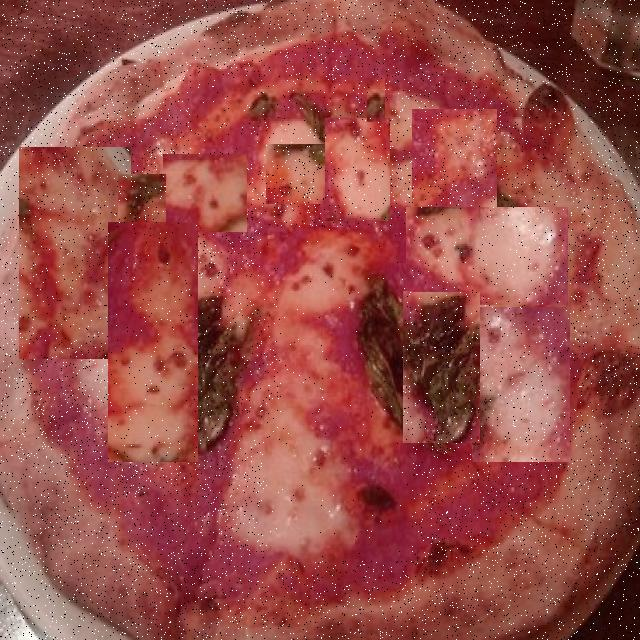Basil: (195, 267, 281, 443), (403, 292, 480, 443), (250, 82, 351, 160), (118, 174, 166, 222), (367, 78, 385, 122)
Cheese: (264, 228, 412, 562), (19, 147, 131, 359), (108, 222, 198, 462), (406, 207, 568, 305), (472, 307, 570, 462), (412, 109, 497, 207), (325, 118, 390, 221), (163, 154, 247, 232), (191, 76, 250, 152), (266, 144, 325, 204)
Pizza: (0, 0, 640, 640)
